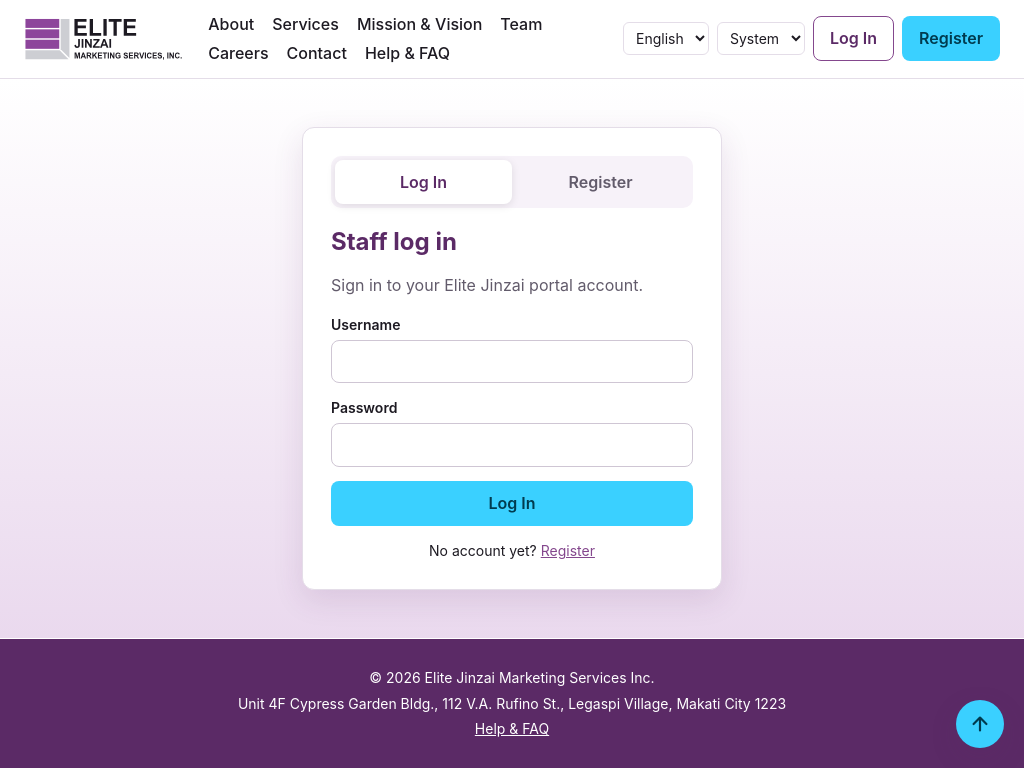
Test: account tabs switch between log in and register on one page
The width and height of the screenshot is (1024, 768).
(page scrolled)
Check: the heading "Staff log in" is shown, box [331,227,457,256]
Step 1. Click the tab "Register" → (600, 182), box [512,160,689,204]
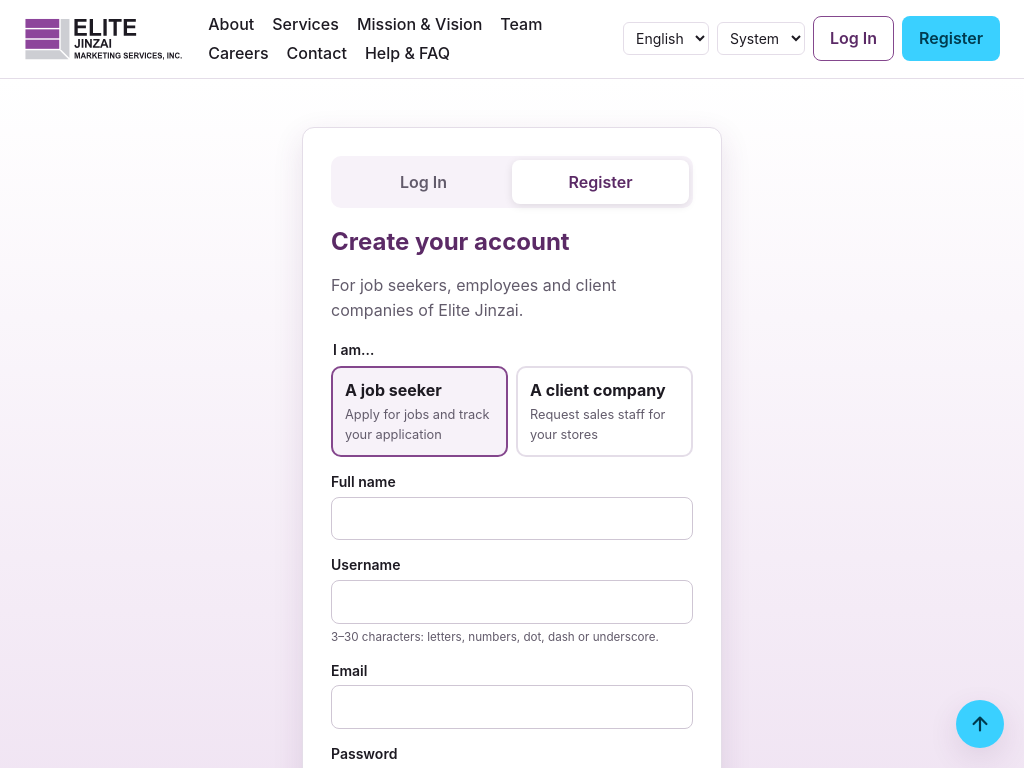
Check: the heading "Create your account" is shown, box [331,227,570,256]
Step 2. Click the tab "Log In" → (424, 182), box [335,160,512,204]
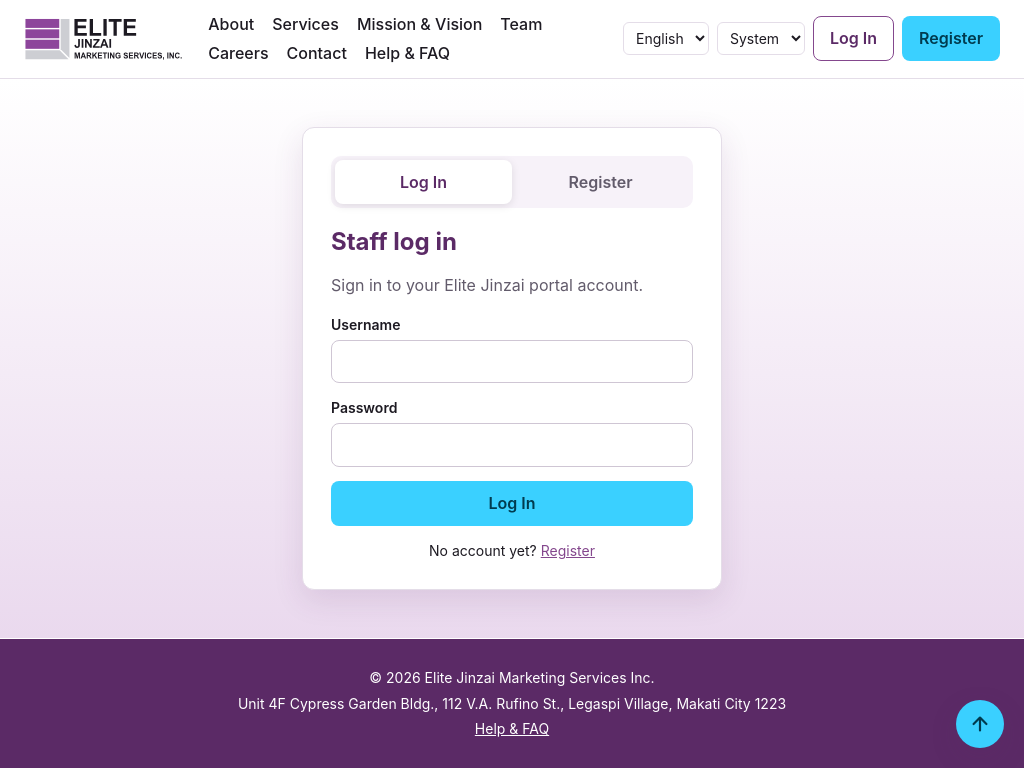
Check: the heading "Staff log in" is shown, box [331,227,457,256]
